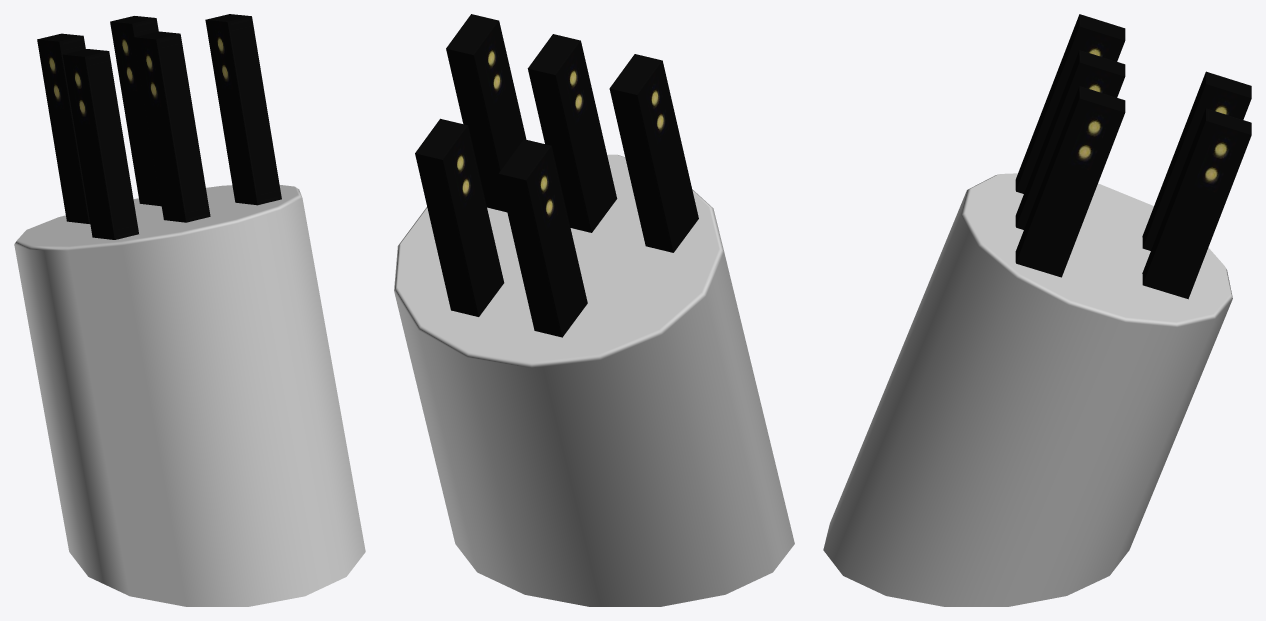
Rendered from Knives.fbx.
3 views of the same model, side by side, from view 1: azimuth 30°, elevation 25°; view 2: azimuth 150°, elevation 25°; view 3: azimuth 270°, elevation 25° (orthographic). The views are drawn at different scales.
Visible parts, largest first — view 1: Base, Knives; view 2: Base, Knives; view 3: Base, Knives.
Part boxes in pixels (x1=…): Base: x1=14, y1=185, x2=365, y2=606; Knives: x1=37, y1=14, x2=281, y2=239; Base: x1=394, y1=154, x2=794, y2=606; Knives: x1=415, y1=14, x2=698, y2=337; Base: x1=823, y1=173, x2=1232, y2=606; Knives: x1=1015, y1=14, x2=1251, y2=299.
Size of the model in its own units: 0.1571 by 0.2776 by 0.221.
